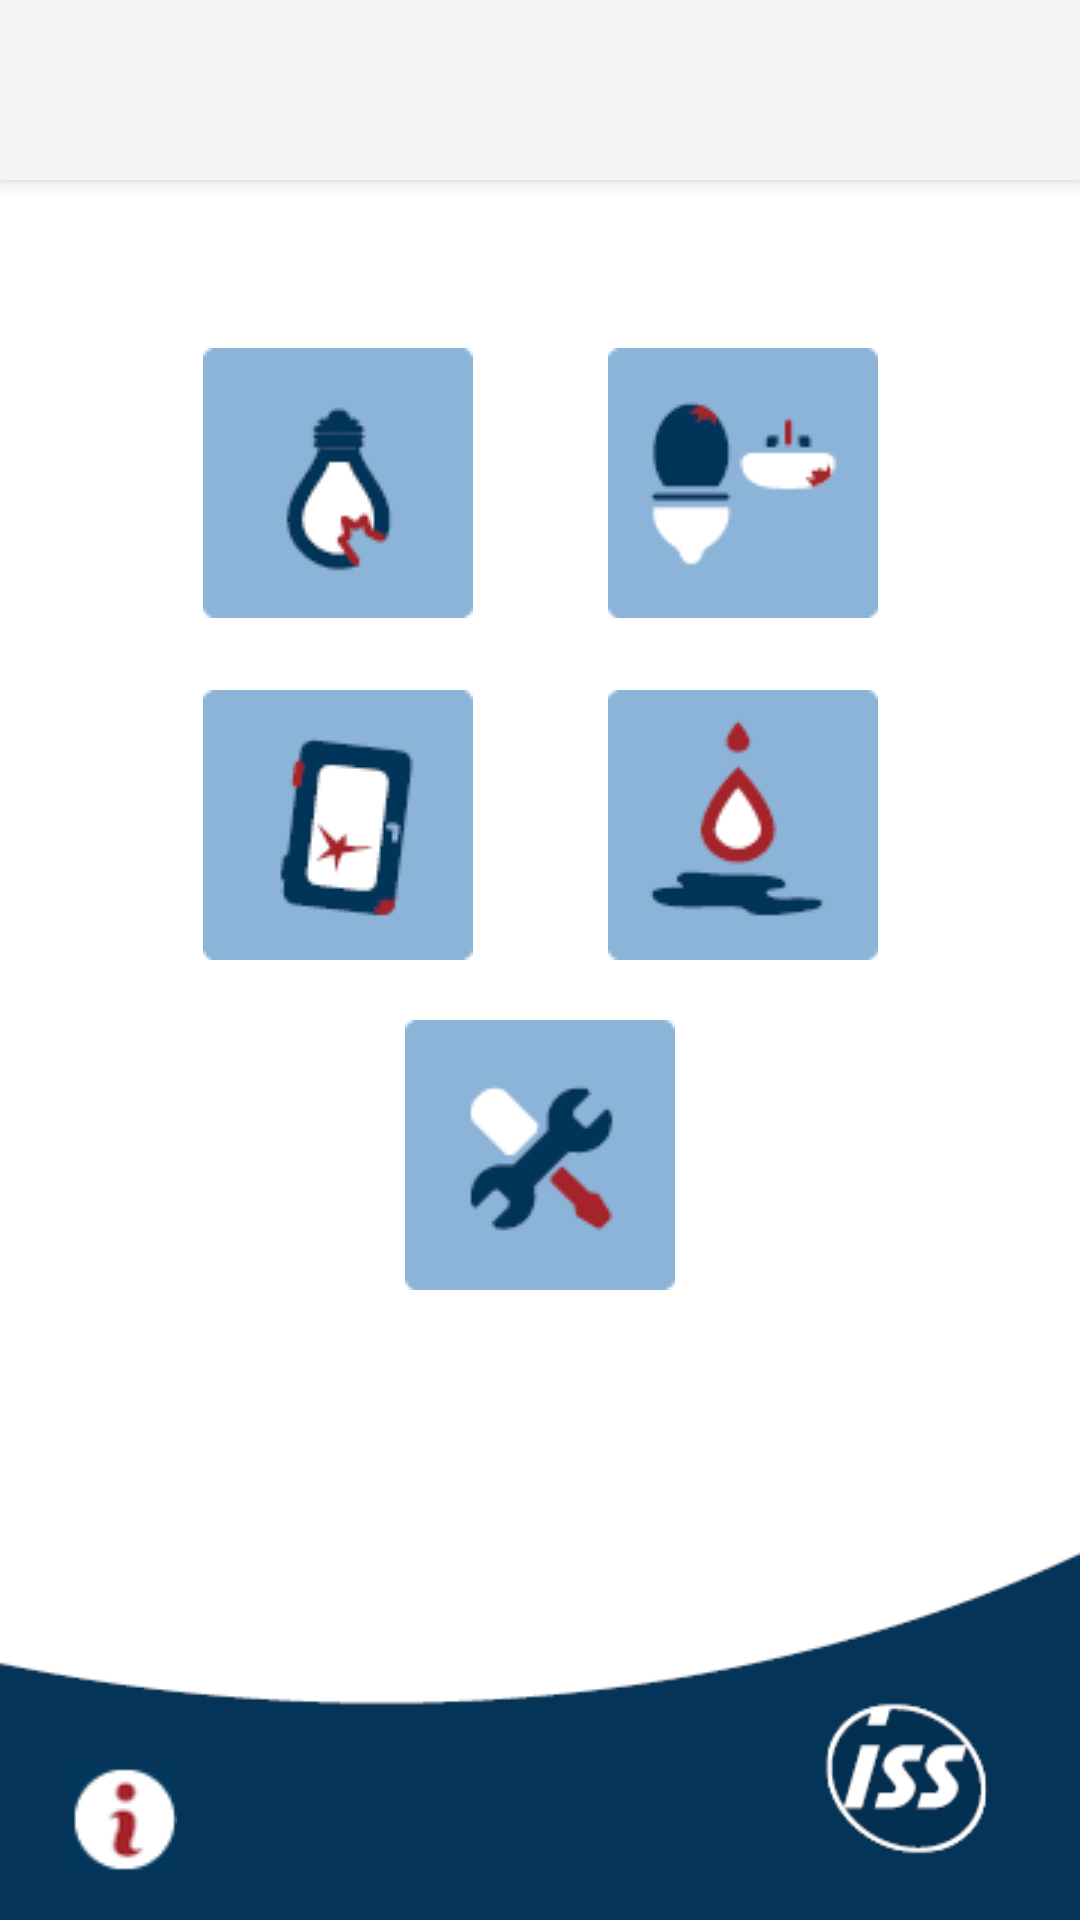

Point at icon controls on the screen. Image size 1080×1920, points as [x,y].
info: [125,1819]
rep behaelter: [743,825]
rep lampe: [338,483]
rep sanitaer: [743,483]
rep sonstige: [540,1155]
rep tuerfenster: [338,825]
